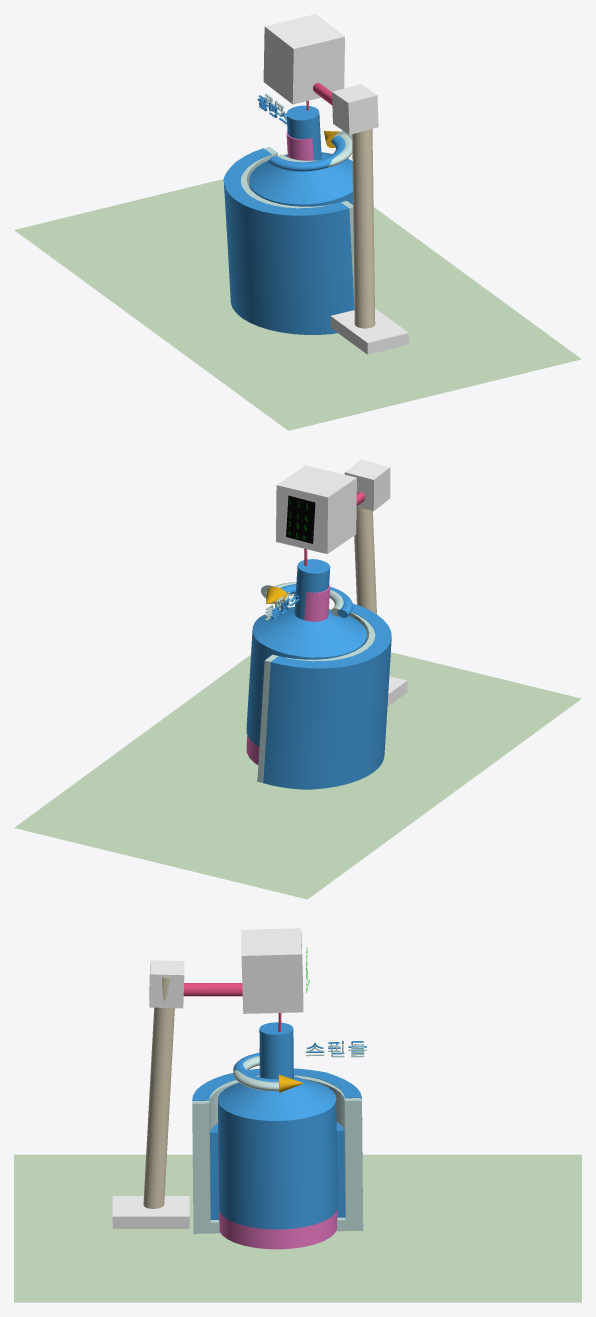
File: assignment_v2.gltf
3 views of the same model, one above another, from view 1: azimuth 30°, elevation 25°; view 2: azimuth 150°, elevation 25°; view 3: azimuth 270°, elevation 25° (orthographic). The views are drawn at different scales.
Visible parts, largest first — view 1: Cube.mounting, Viscometer v1.004, Viscometer.container-cover, Viscometer.container; view 2: Cube.mounting, Viscometer v1.004, Viscometer.container-cover, Plane.001, Viscometer.container; view 3: Cube.mounting, Viscometer v1.004, Viscometer.container-cover, Viscometer.container.
Part boxes in pixels (x1=…): Cube.mounting: x1=14, y1=14, x2=581, y2=430; Viscometer v1.004: x1=223, y1=95, x2=354, y2=334; Viscometer.container-cover: x1=240, y1=93, x2=354, y2=307; Viscometer.container: x1=286, y1=131, x2=313, y2=160; Cube.mounting: x1=14, y1=459, x2=581, y2=899; Viscometer v1.004: x1=246, y1=559, x2=391, y2=789; Viscometer.container-cover: x1=257, y1=582, x2=375, y2=782; Plane.001: x1=286, y1=495, x2=315, y2=543; Viscometer.container: x1=246, y1=584, x2=330, y2=764; Cube.mounting: x1=14, y1=928, x2=581, y2=1302; Viscometer v1.004: x1=192, y1=1022, x2=366, y2=1229; Viscometer.container-cover: x1=192, y1=1044, x2=366, y2=1233; Viscometer.container: x1=218, y1=1049, x2=337, y2=1249.
Size of the model in its own units: 52.5 by 47.4 by 85.02.
